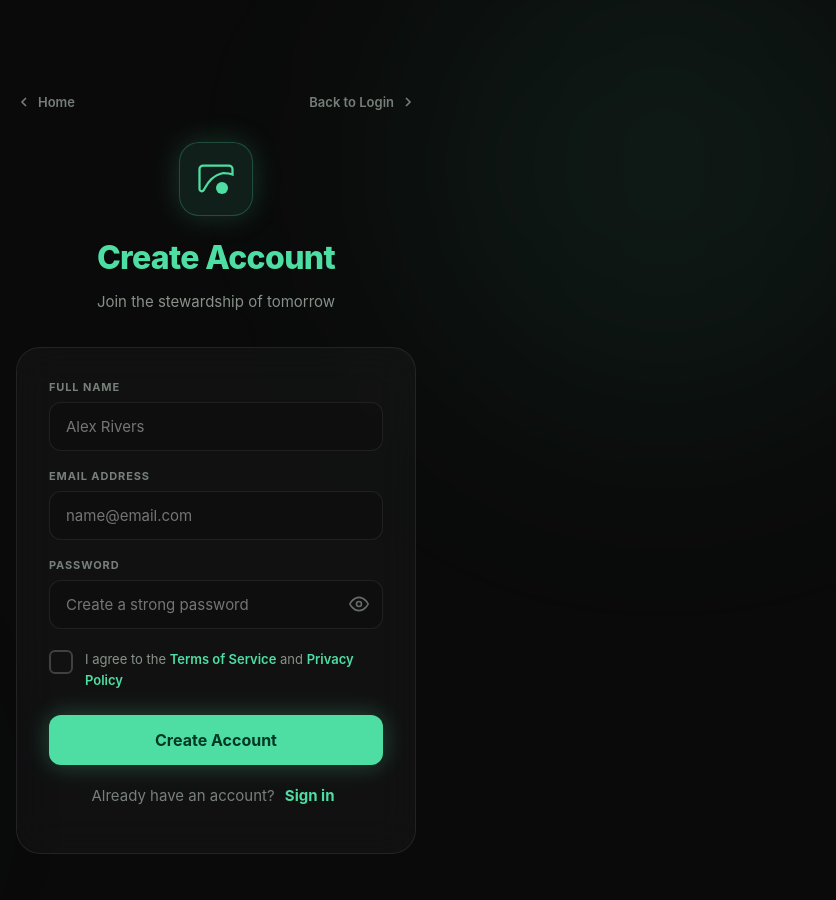
Scenario: Signup component › shows error when submitting empty form
Click the button "Create Account" at (216, 740), box [49,714,383,764]
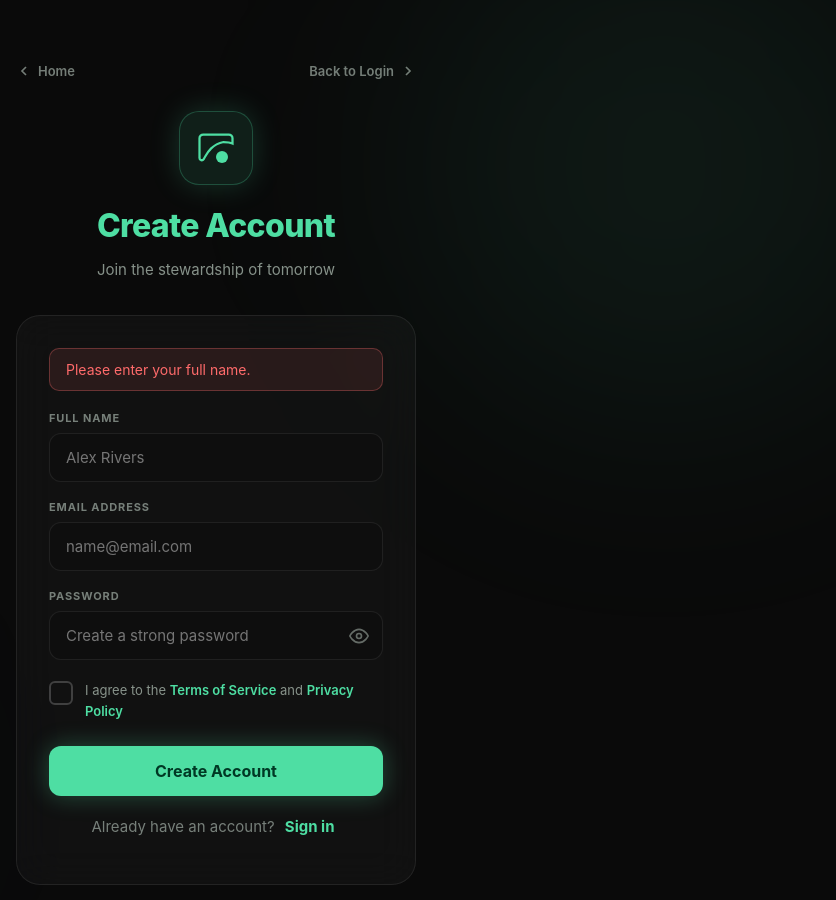
Expected: the message "Please enter your full name." is shown, [49,348,383,391]
